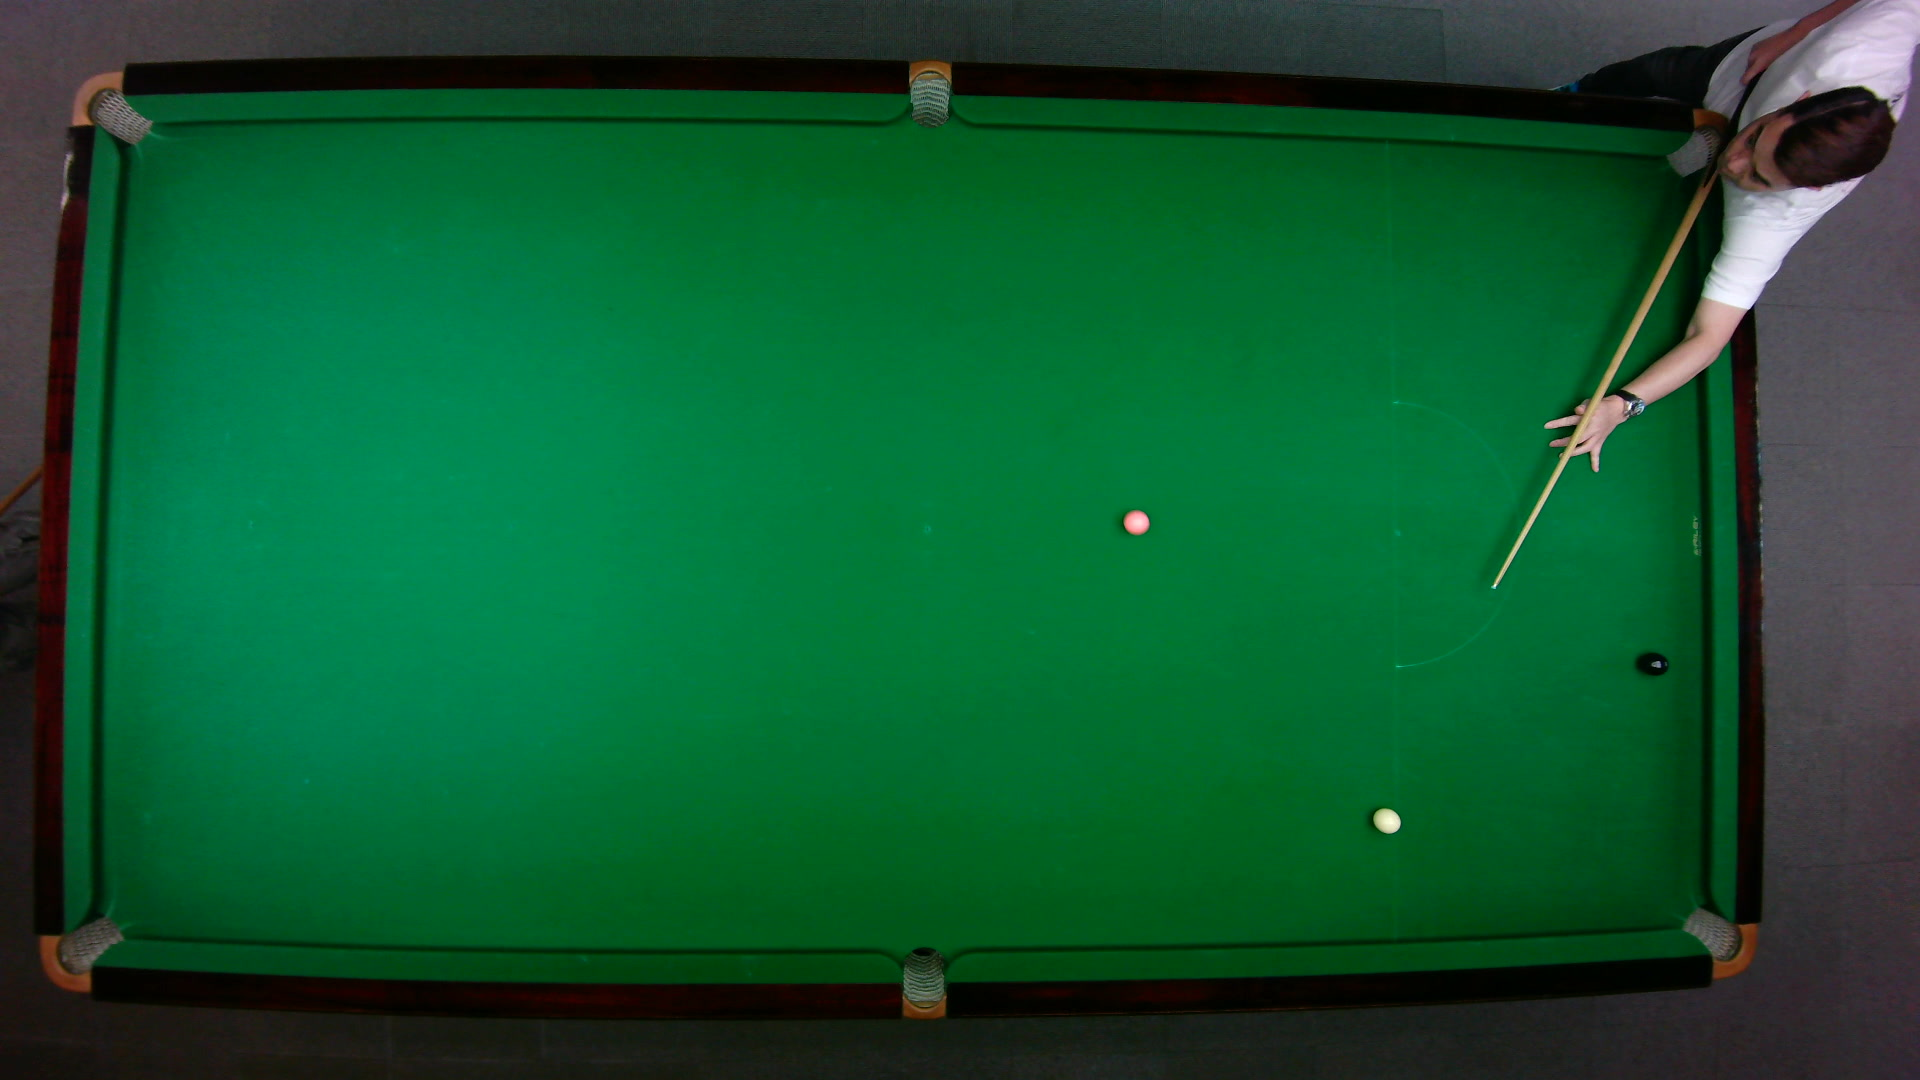bag: (37, 914, 125, 992), (69, 69, 152, 145), (1677, 905, 1756, 978), (1665, 107, 1737, 178), (901, 944, 944, 1021), (909, 58, 949, 128)
black: (1639, 650, 1669, 676)
cue: (1487, 138, 1737, 592)
pink: (1121, 506, 1150, 535)
white: (1370, 806, 1402, 833)
zone: (1390, 400, 1513, 667)
